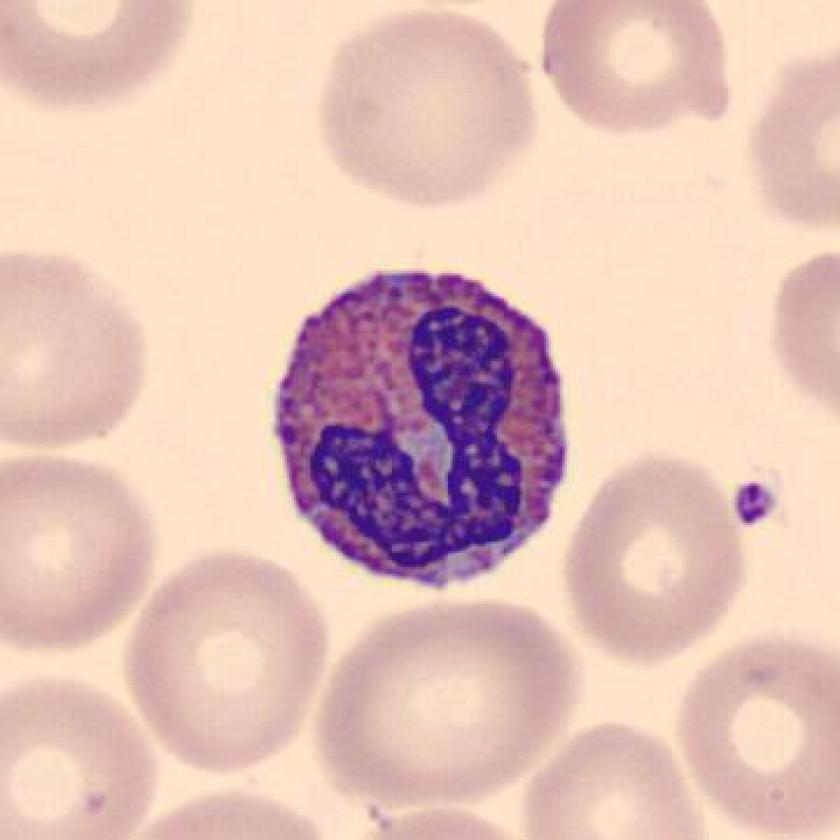eosinophil: (248, 246, 587, 603)
